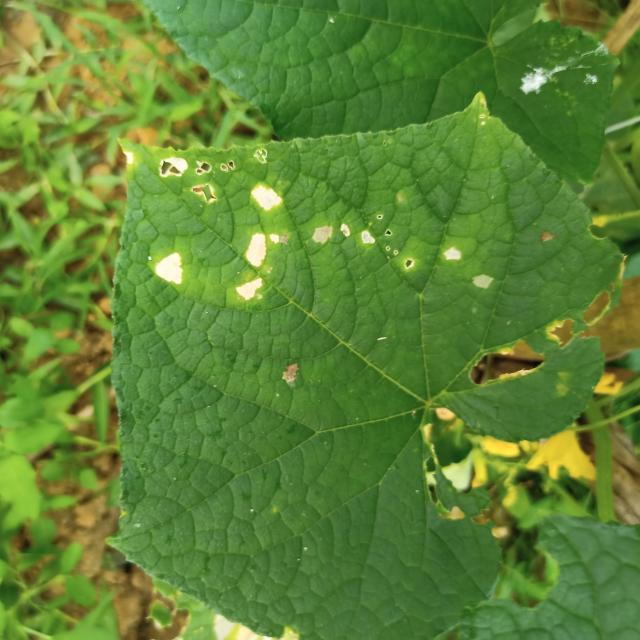disease_cucumber: (118, 144, 294, 325), (307, 178, 499, 304)
